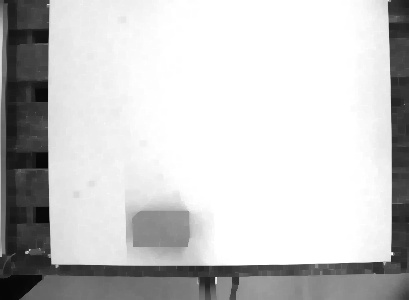b2: (131, 209, 192, 249)
